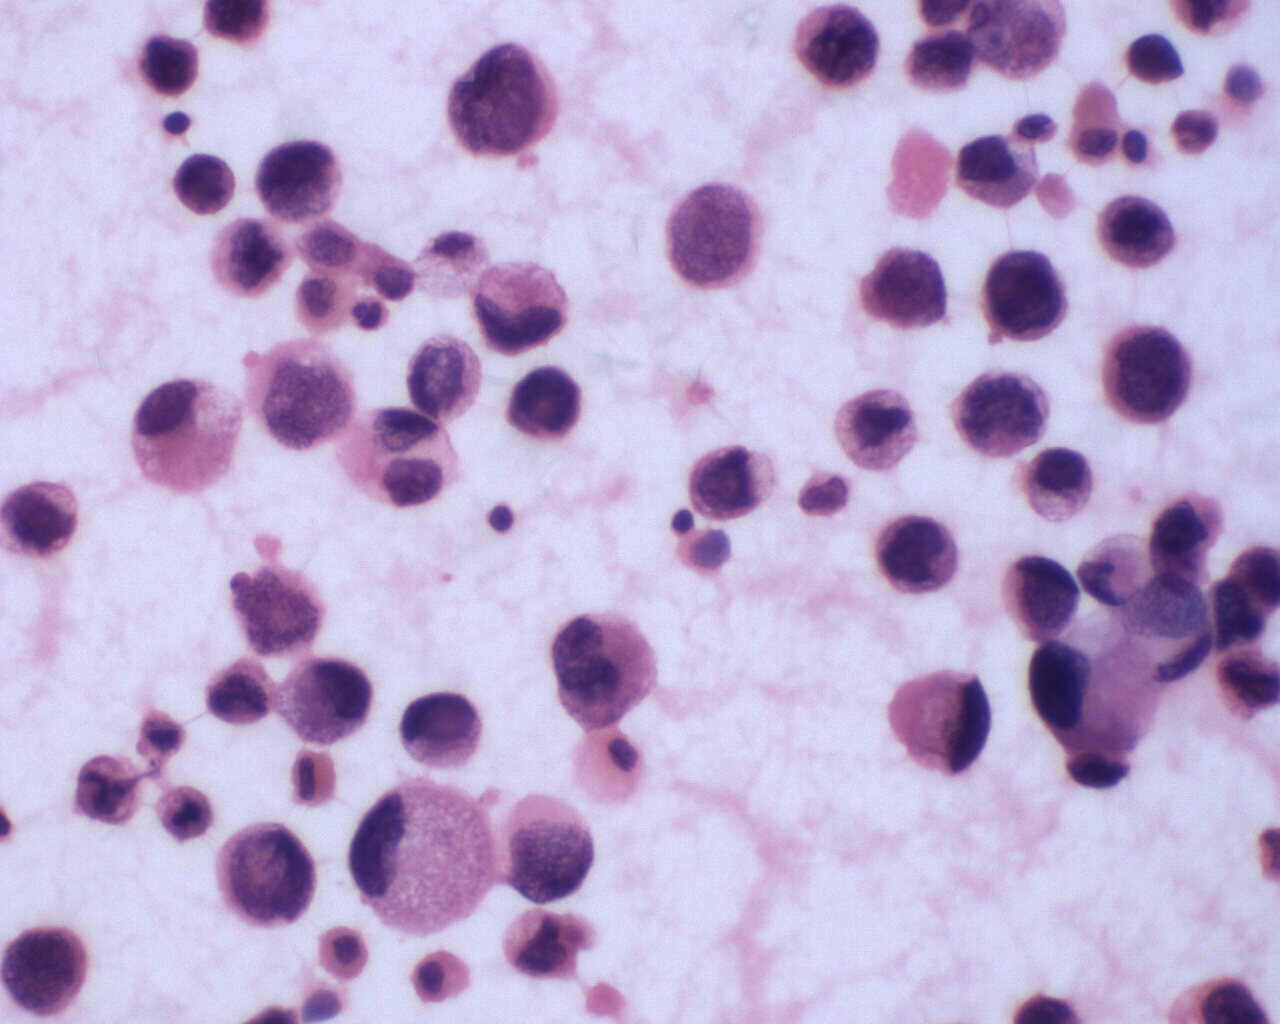ab: (443, 41, 564, 154), (215, 820, 321, 933), (267, 652, 383, 748), (1099, 321, 1197, 430), (1, 917, 97, 1020), (245, 138, 352, 227), (872, 511, 970, 609), (787, 1, 878, 101), (1, 471, 89, 574), (853, 243, 951, 333), (982, 249, 1074, 344), (999, 550, 1090, 644), (832, 385, 927, 474), (682, 441, 778, 526), (391, 691, 488, 774), (1088, 186, 1185, 270), (955, 131, 1043, 212), (499, 365, 585, 447), (1015, 445, 1099, 522), (134, 30, 210, 104), (202, 654, 278, 728), (171, 148, 243, 220)
histo: (338, 781, 504, 937), (131, 373, 243, 493), (566, 725, 650, 815)
meso: (408, 948, 475, 1008), (308, 926, 379, 982)
